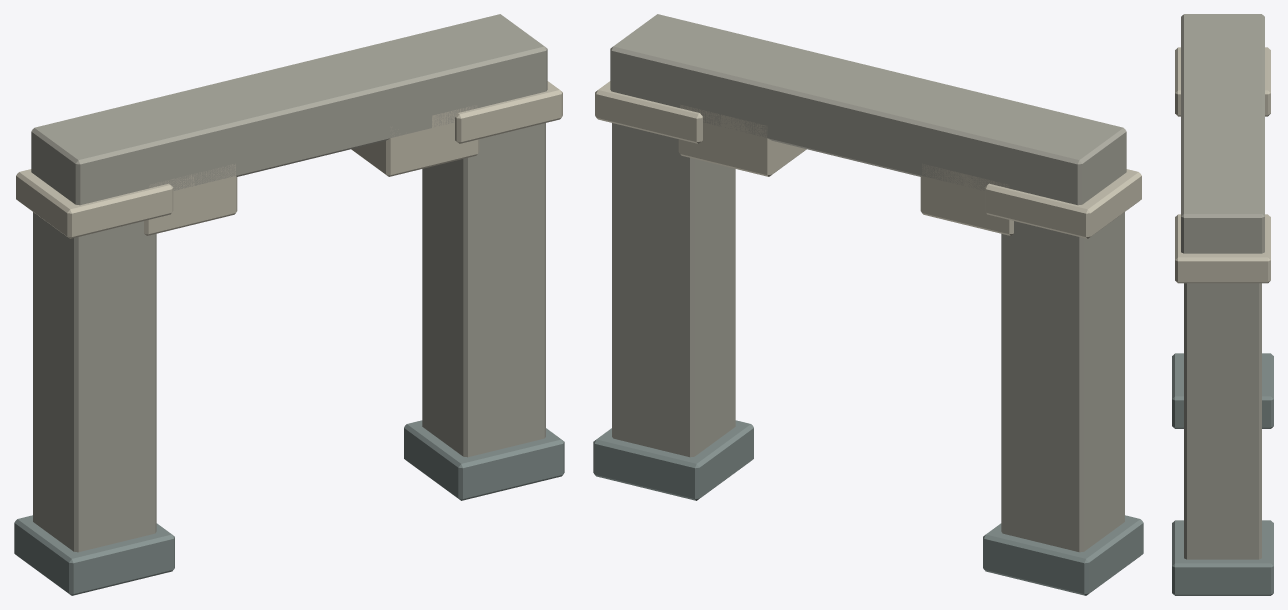
Rendered from arch.glb.
3 views of the same model, side by side, from view 1: azimuth 30°, elevation 25°; view 2: azimuth 150°, elevation 25°; view 3: azimuth 270°, elevation 25° (orthographic). The views are drawn at different scales.
Parts seen in each view (by area): view 1: TV_arch; view 2: TV_arch; view 3: TV_arch.
Boxes of the visible parts, x1,y1,x2,y2 form: TV_arch: (14,14,564,595); TV_arch: (593,14,1143,595); TV_arch: (1172,14,1273,595).
Bounding box in the file's own units: 4.2 × 3.47 × 0.85.
